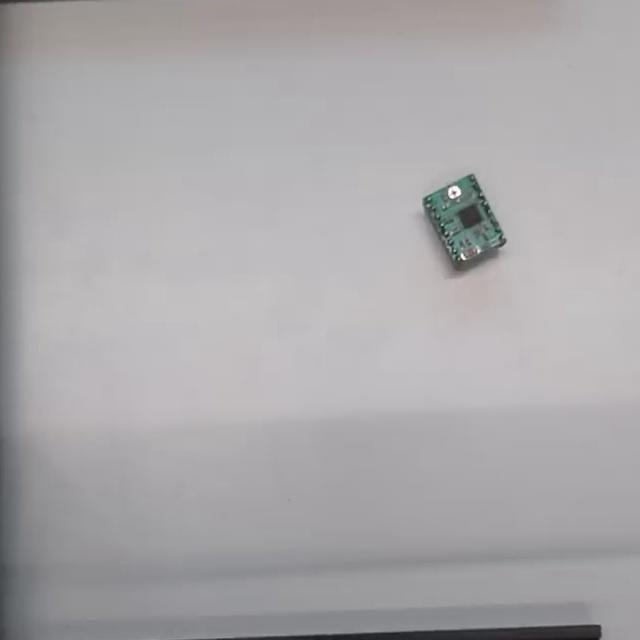Chip: (422, 174, 509, 267)
